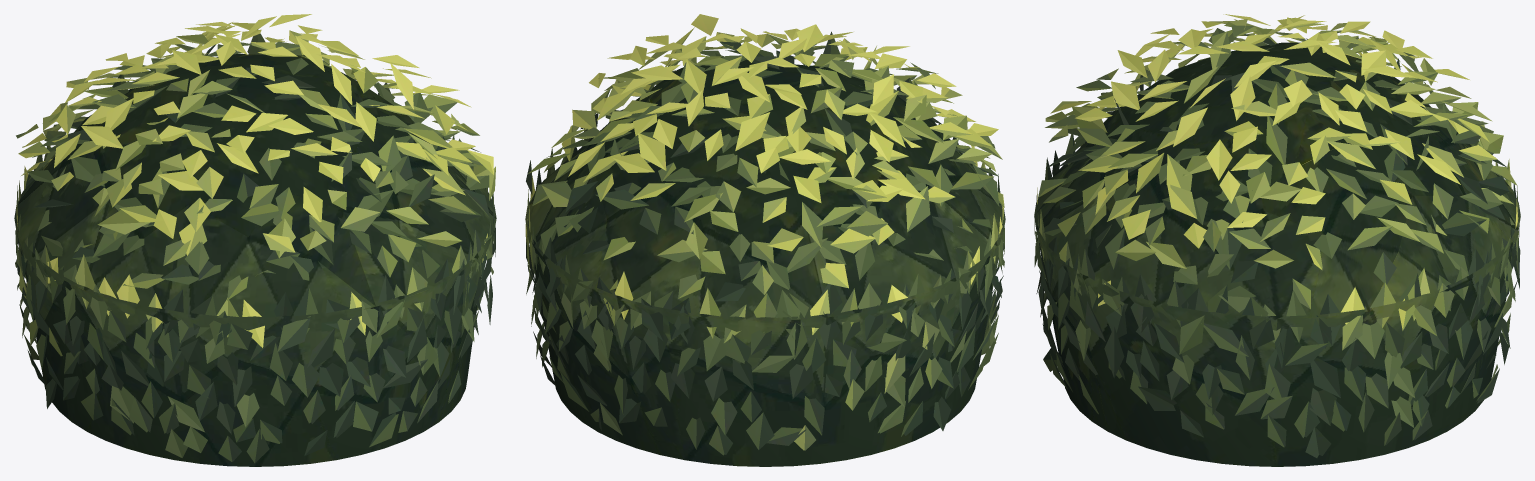
File: shrub_round.glb
3 renders of one model, left to right at view 1: azimuth 30°, elevation 25°; view 2: azimuth 150°, elevation 25°; view 3: azimuth 270°, elevation 25°, orthographic.
Parts seen in each view (by area): view 1: body; view 2: body; view 3: body.
Boxes of the visible parts, bbox=[...] form: body: bbox=[14, 14, 496, 466]; body: bbox=[525, 14, 1005, 466]; body: bbox=[1034, 14, 1520, 466].
Size of the model in its own units: 1.1 by 0.8366 by 1.1.
1 material, 1 textured.
